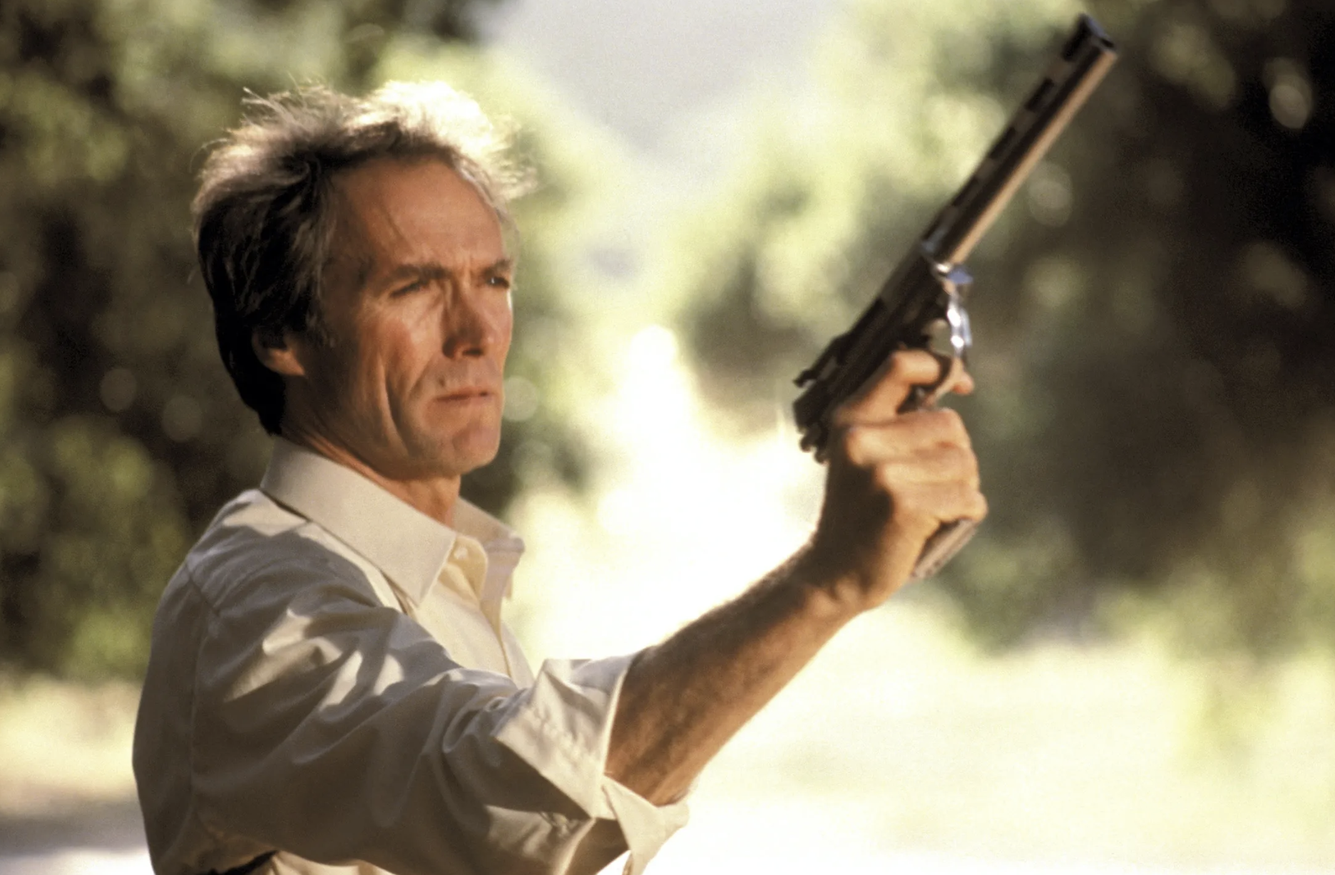gun_009: (769, 13, 1123, 586)
